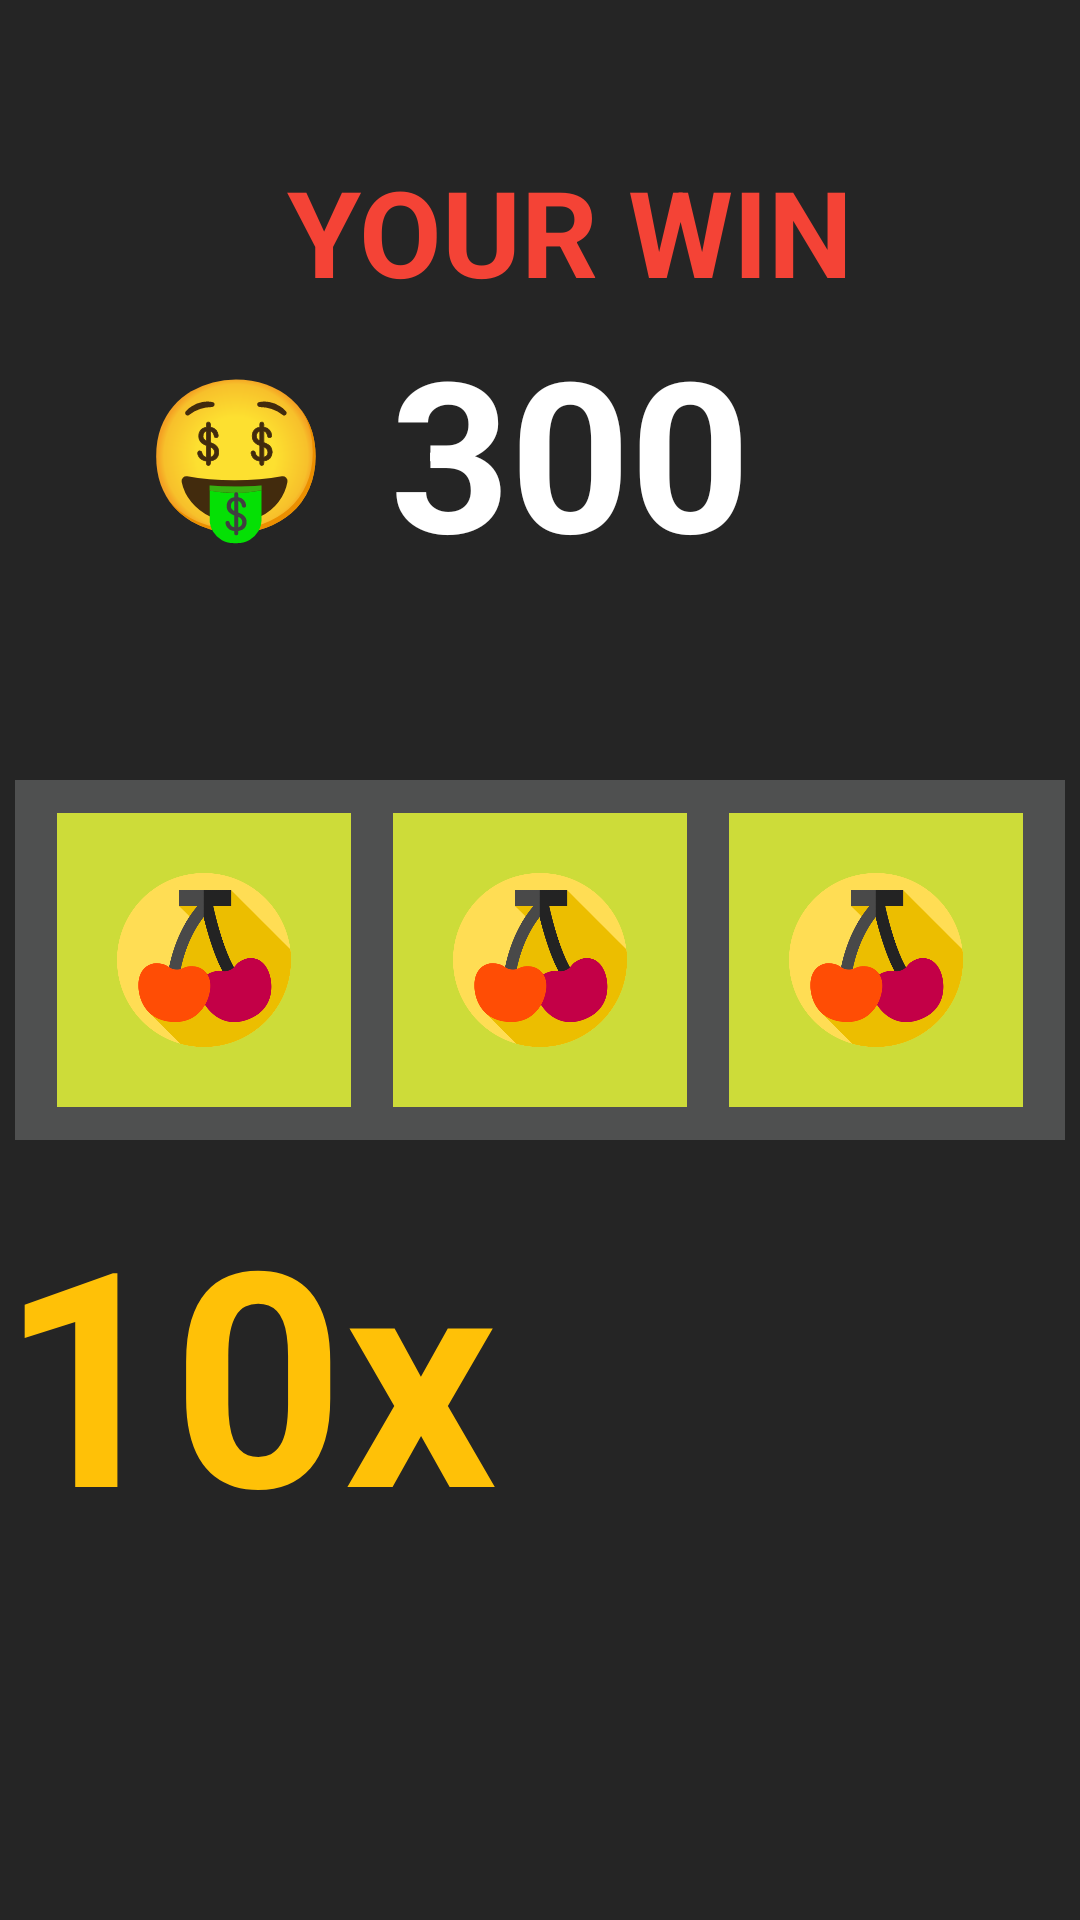

Icon bounding boxes for this 1080*1920 phone screenshot, format [x1,y1,x2,y2]:
cherry: [57,813,351,1107], [393,813,687,1107], [729,813,1023,1107]
